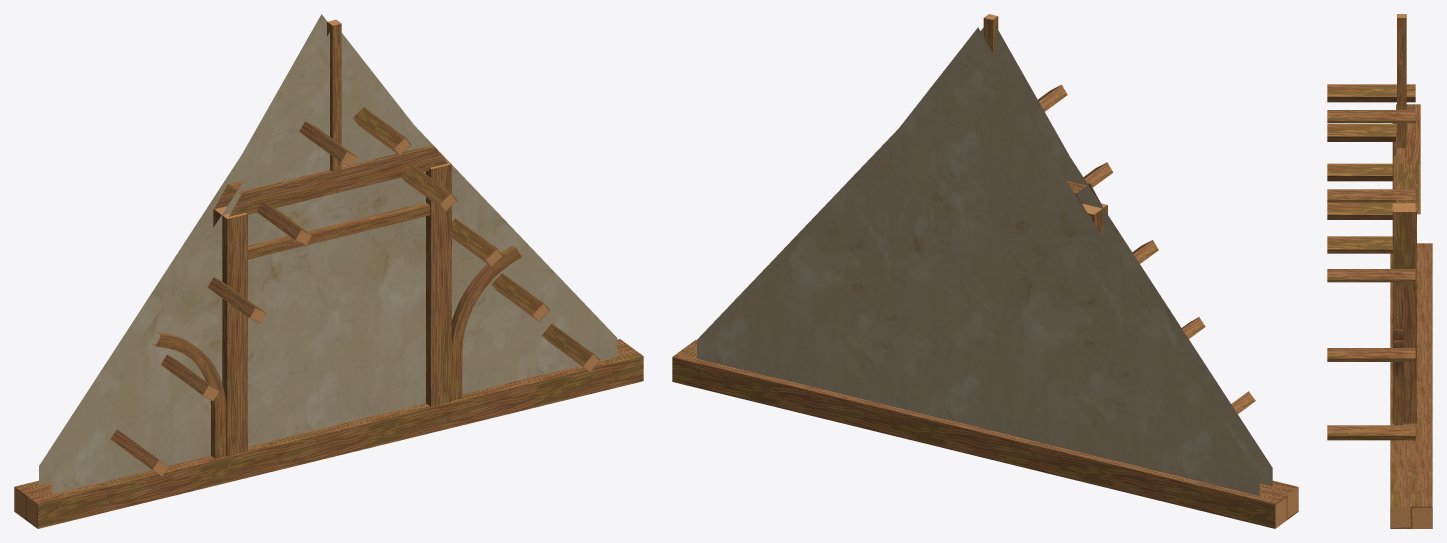
Rendered from Roof_Front_Brick6.gltf.
The picture shows the model from 3 angles, left to right: view 1: azimuth 30°, elevation 25°; view 2: azimuth 150°, elevation 25°; view 3: azimuth 270°, elevation 25°; orthographic projection. The views are drawn at different scales.
Parts seen in each view (by area): view 1: Roof_Front_Brick6; view 2: Roof_Front_Brick6; view 3: Roof_Front_Brick6.
Boxes of the visible parts, x1,y1,x2,y2 form: Roof_Front_Brick6: (14, 14, 643, 528); Roof_Front_Brick6: (672, 14, 1298, 528); Roof_Front_Brick6: (1327, 14, 1432, 528).
Size of the model in its own units: 6.69 by 4.52 by 1.13.
2 materials, 2 textured.
